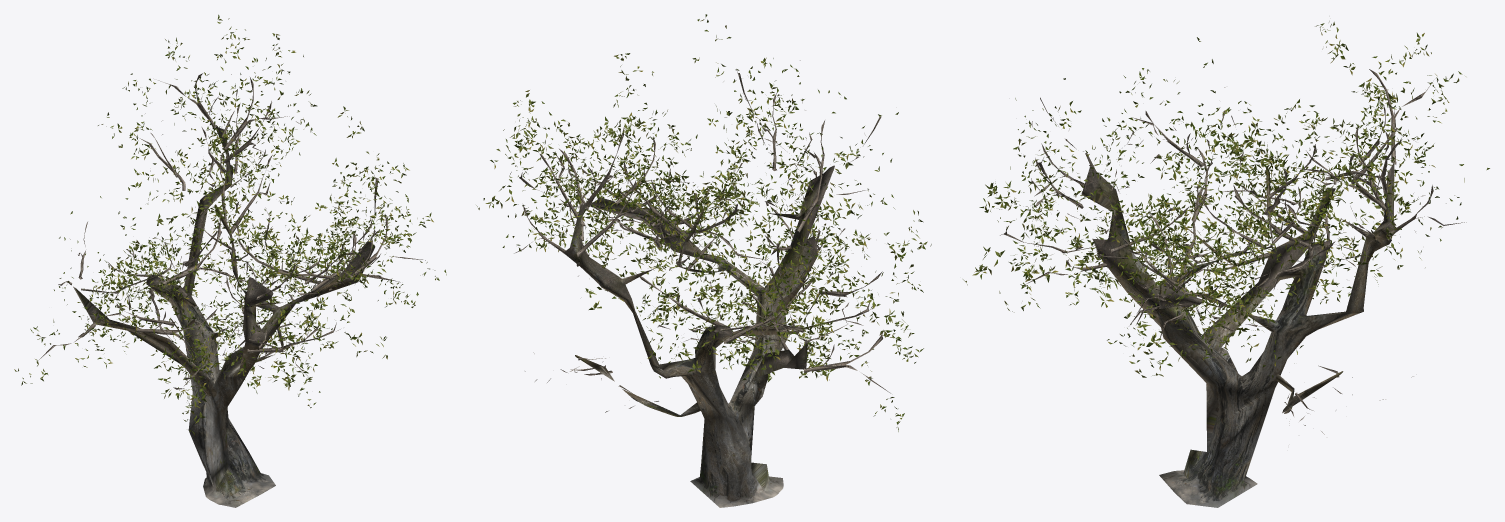
File: island_tree_01_lod2.glb
The picture shows the model from 3 angles, left to right: view 1: azimuth 30°, elevation 25°; view 2: azimuth 150°, elevation 25°; view 3: azimuth 270°, elevation 25°; orthographic projection. The views are drawn at different scales.
Parts seen in each view (by area): view 1: island_tree_01_LOD0; view 2: island_tree_01_LOD0; view 3: island_tree_01_LOD0.
Part boxes in pixels (box(x1,y1,x2,y2)): island_tree_01_LOD0: box(14, 14, 446, 507); island_tree_01_LOD0: box(476, 14, 931, 507); island_tree_01_LOD0: box(963, 21, 1489, 507).
Size of the model in its own units: 4.7 by 4.98 by 4.79.
3 materials, 3 textured.
